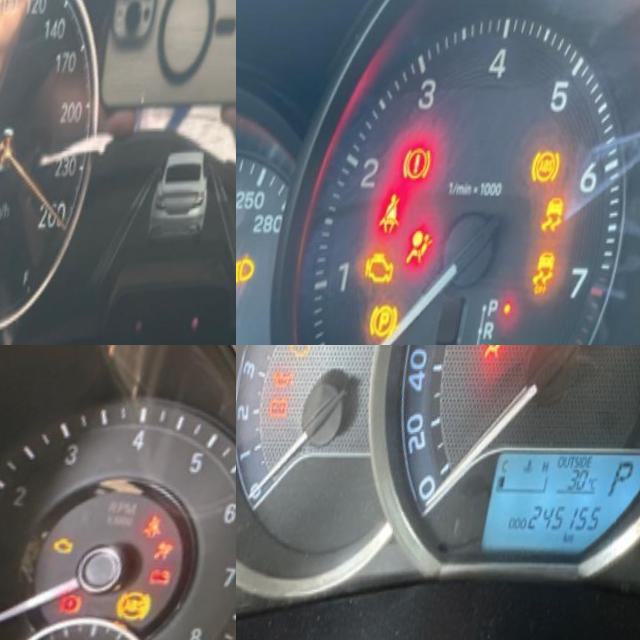Seat Belt: (385, 190, 415, 236)
